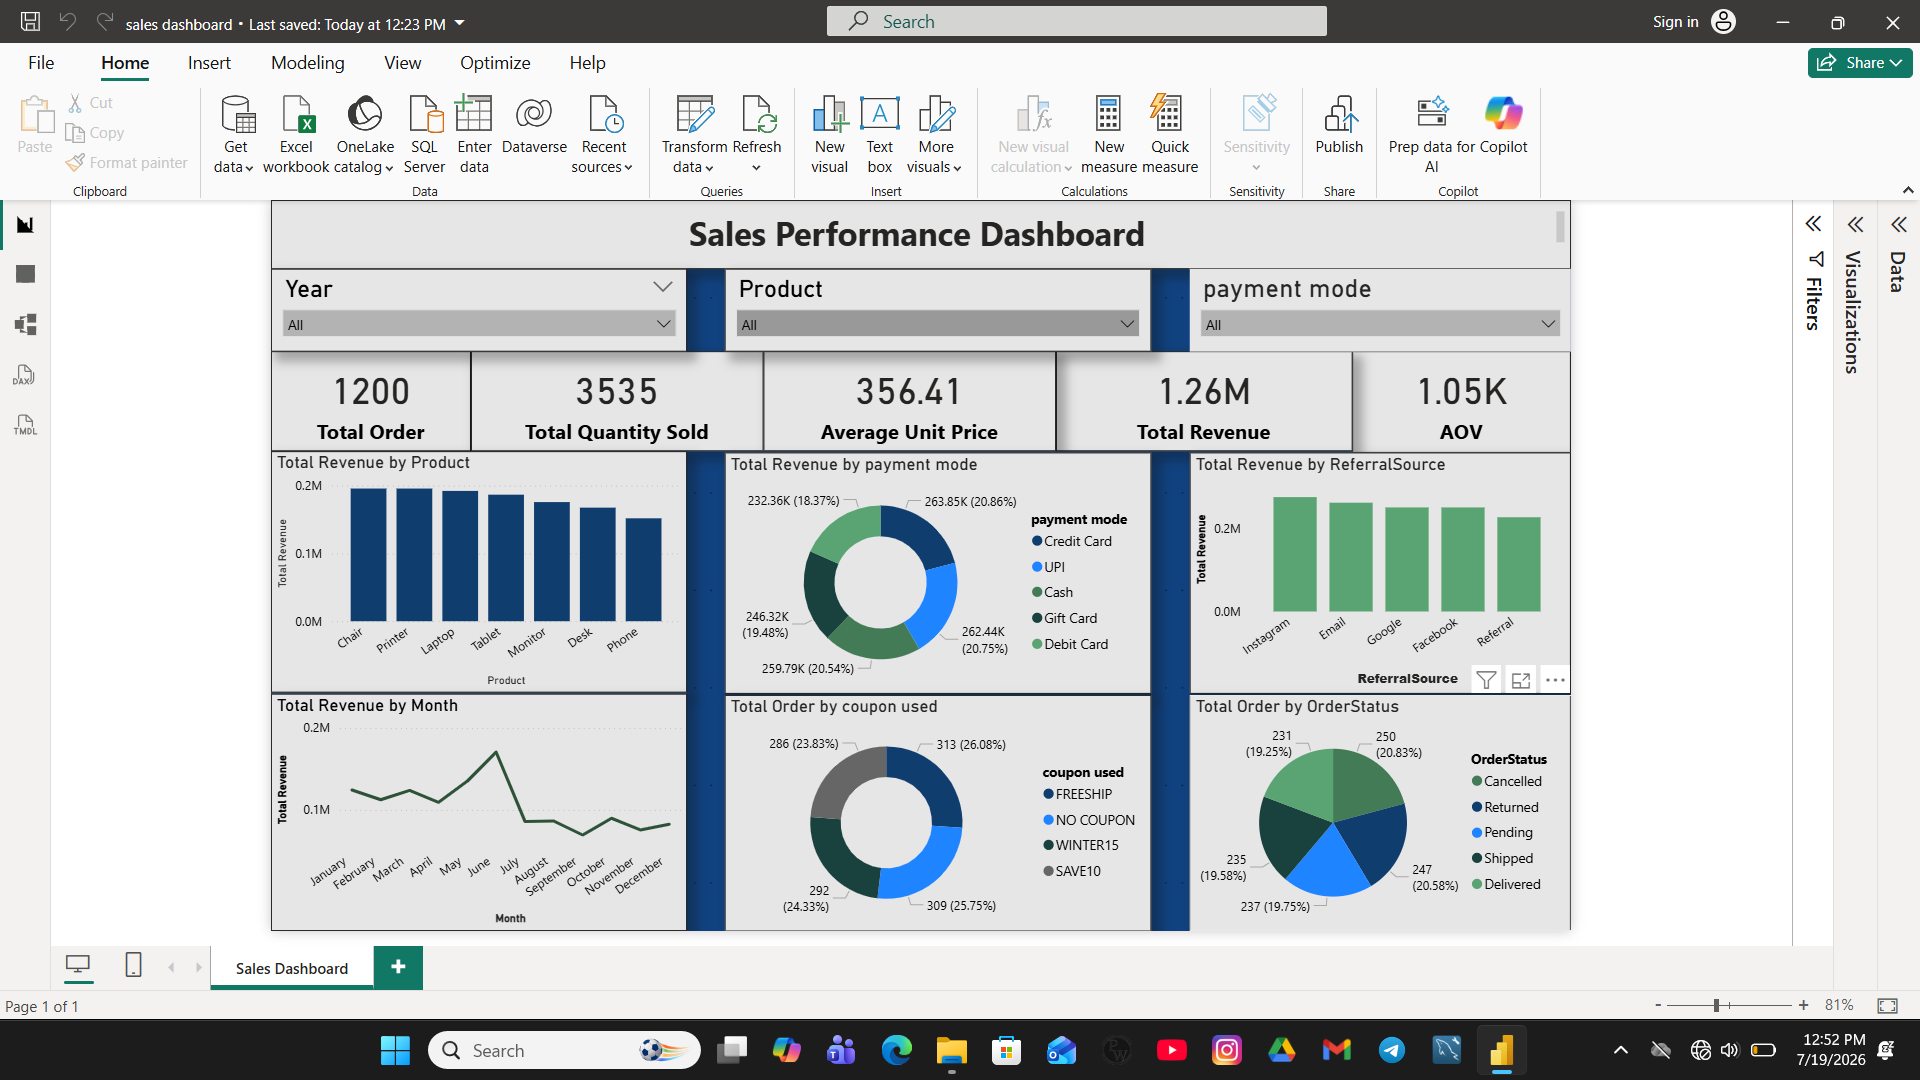

The page's visual inventory and layout, read from the dashboard file:
{"tool":"powerbi","page":{"name":"Sales Dashboard","canvas":[1280,720],"ordinal":0},"visuals":[{"type":"textbox","box":[0,0,1280,68],"z":0},{"type":"card","fields":{"Values":["Sheet1.aov"]},"box":[1064.6,148.9,215.4,99.7],"z":1000},{"type":"card","fields":{"Values":["Sheet1.total order"]},"box":[0,148.9,196.9,98.5],"z":2000},{"type":"card","fields":{"Values":["Sheet1.total quantity sold"]},"box":[196.9,148.9,288,98.5],"z":3000},{"type":"card","fields":{"Values":["Sheet1.total revenue"]},"box":[772.9,148.9,291.7,98.5],"z":4000},{"type":"card","fields":{"Values":["Sheet1.average unit price"]},"box":[484.9,148.9,288,98.5],"z":5000},{"type":"columnChart","fields":{"Category":["Sheet1.Product"],"Y":["Sheet1.total revenue"]},"box":[0,247.4,409.8,237.5],"z":6000},{"type":"donutChart","fields":{"Category":["Sheet1.payment mode"],"Y":["Sheet1.Total Revenue"]},"box":[446.8,248.6,419.7,237.5],"z":7000},{"type":"clusteredColumnChart","fields":{"Category":["Sheet1.ReferralSource"],"Y":["Sheet1.Total Revenue"]},"box":[904.6,248.6,375.4,237.5],"z":8000},{"type":"lineChart","fields":{"Category":["Sheet1.Date.Variation.Date Hierarchy.Month"],"Y":["Sheet1.Total Revenue"]},"box":[0,486.2,409.8,233.8],"z":9000},{"type":"donutChart","fields":{"Category":["Sheet1.coupon used"],"Y":["Sheet1.total order"]},"box":[447,487,420,233],"z":10000},{"type":"pieChart","fields":{"Category":["Sheet1.OrderStatus"],"Y":["Sheet1.total order"]},"box":[905,487,375,233],"z":11000},{"type":"slicer","fields":{"Values":["Sheet1.Date.Variation.Date Hierarchy.Year"]},"box":[0,67.7,409.8,81.2],"z":12000},{"type":"slicer","fields":{"Values":["Sheet1.Product"]},"box":[446.8,67.7,419.7,81.2],"z":13000},{"type":"slicer","fields":{"Values":["Sheet1.payment mode"]},"box":[904.6,67.7,375.4,81.2],"z":14000}]}

Visuals, with their boxes on the page's 1280x720 design canvas (x1, y1, x2, y2). These are canvas units, not pixel positions in the 1920x1080 screenshot, which may show the page scaled, cropped or inside an application window:
textbox: left=0, top=0, right=1280, bottom=68
card - Sheet1.aov: left=1065, top=149, right=1280, bottom=249
card - Sheet1.total order: left=0, top=149, right=197, bottom=247
card - Sheet1.total quantity sold: left=197, top=149, right=485, bottom=247
card - Sheet1.total revenue: left=773, top=149, right=1065, bottom=247
card - Sheet1.average unit price: left=485, top=149, right=773, bottom=247
columnChart - Sheet1.Product x Sheet1.total revenue: left=0, top=247, right=410, bottom=485
donutChart - Sheet1.payment mode x Sheet1.Total Revenue: left=447, top=249, right=866, bottom=486
clusteredColumnChart - Sheet1.ReferralSource x Sheet1.Total Revenue: left=905, top=249, right=1280, bottom=486
lineChart - Sheet1.Date.Variation.Date Hierarchy.Month x Sheet1.Total Revenue: left=0, top=486, right=410, bottom=720
donutChart - Sheet1.coupon used x Sheet1.total order: left=447, top=487, right=867, bottom=720
pieChart - Sheet1.OrderStatus x Sheet1.total order: left=905, top=487, right=1280, bottom=720
slicer - Sheet1.Date.Variation.Date Hierarchy.Year: left=0, top=68, right=410, bottom=149
slicer - Sheet1.Product: left=447, top=68, right=866, bottom=149
slicer - Sheet1.payment mode: left=905, top=68, right=1280, bottom=149
